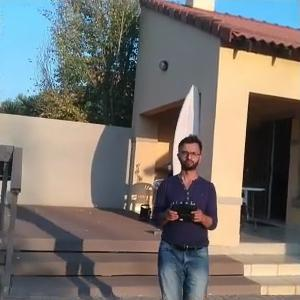follow: (148, 129, 220, 298)
